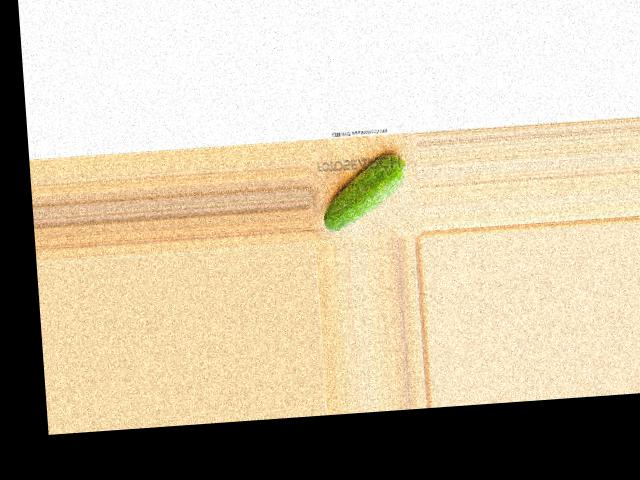cucumber: (319, 152, 411, 232)
